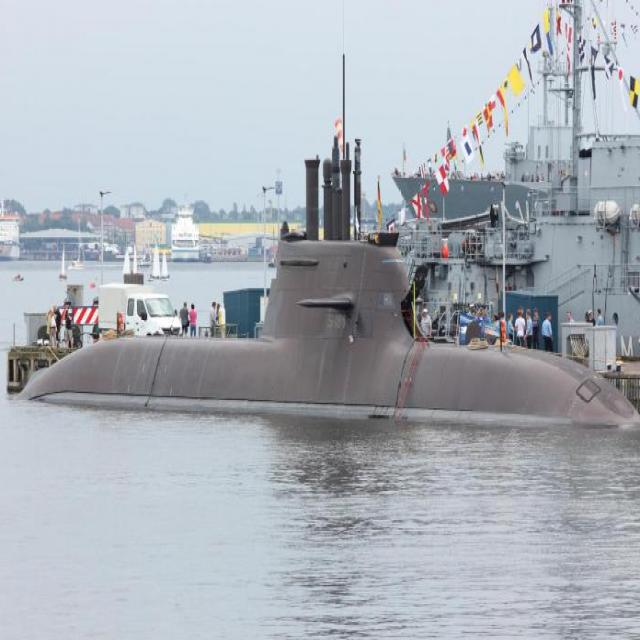submarine: (31, 124, 640, 408)
